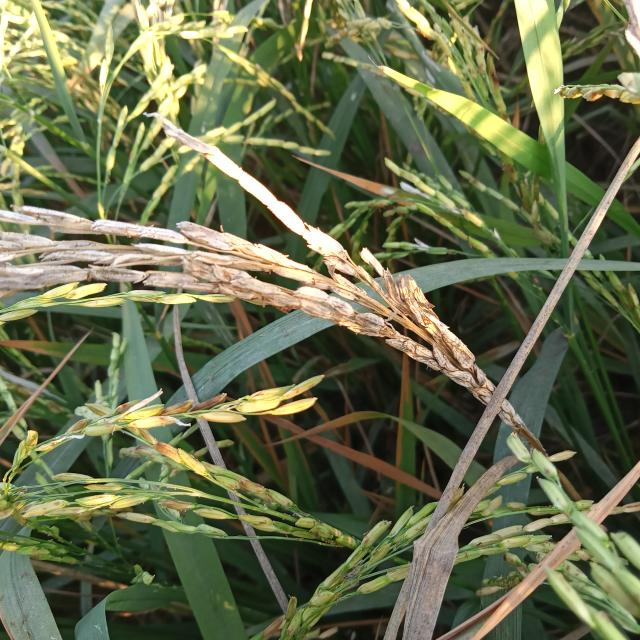Neck_Blast: (0, 206, 524, 421)
